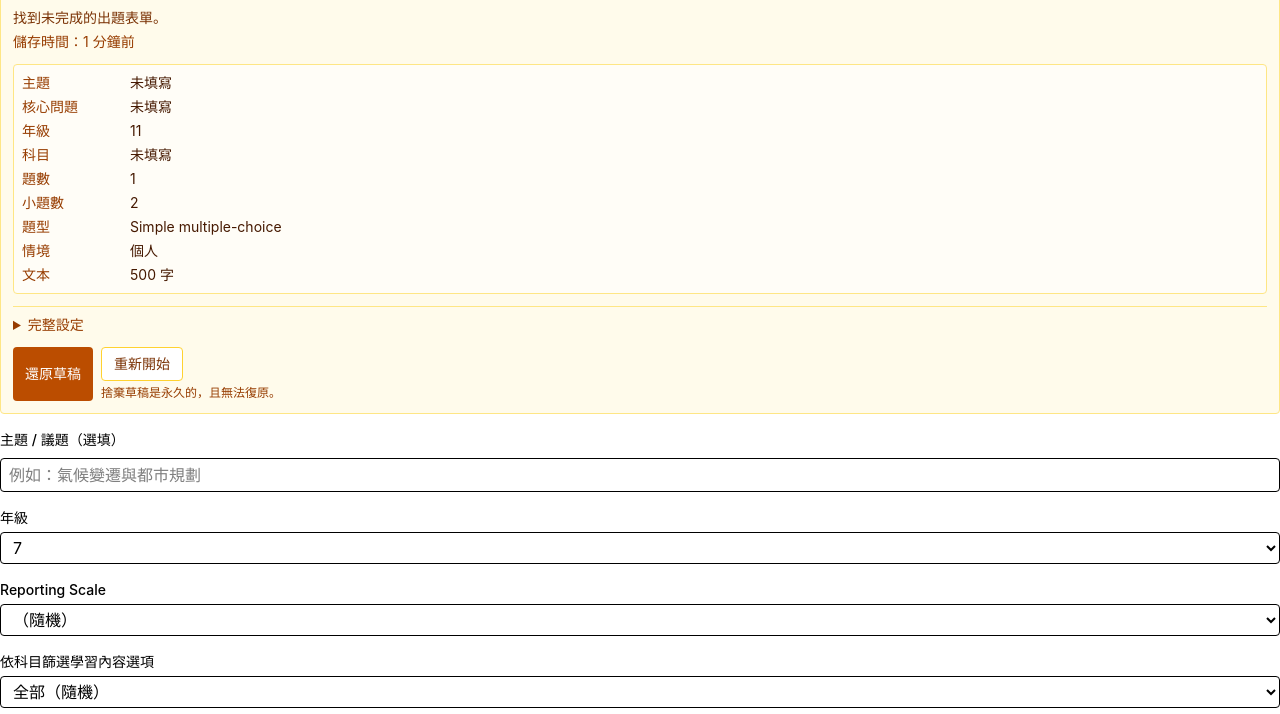
it: ParamForm draft restoration across learning stages › keeps restored grade 11 codes when the previous pool still has pending reconciliation
Check: the text "找到未完成的出題表單。" is shown, box x1=13 y1=9 x2=167 y2=26
Click the button "還原草稿". click: (53, 374)
box: x1=13 y1=347 x2=93 y2=401
(page scrolled)
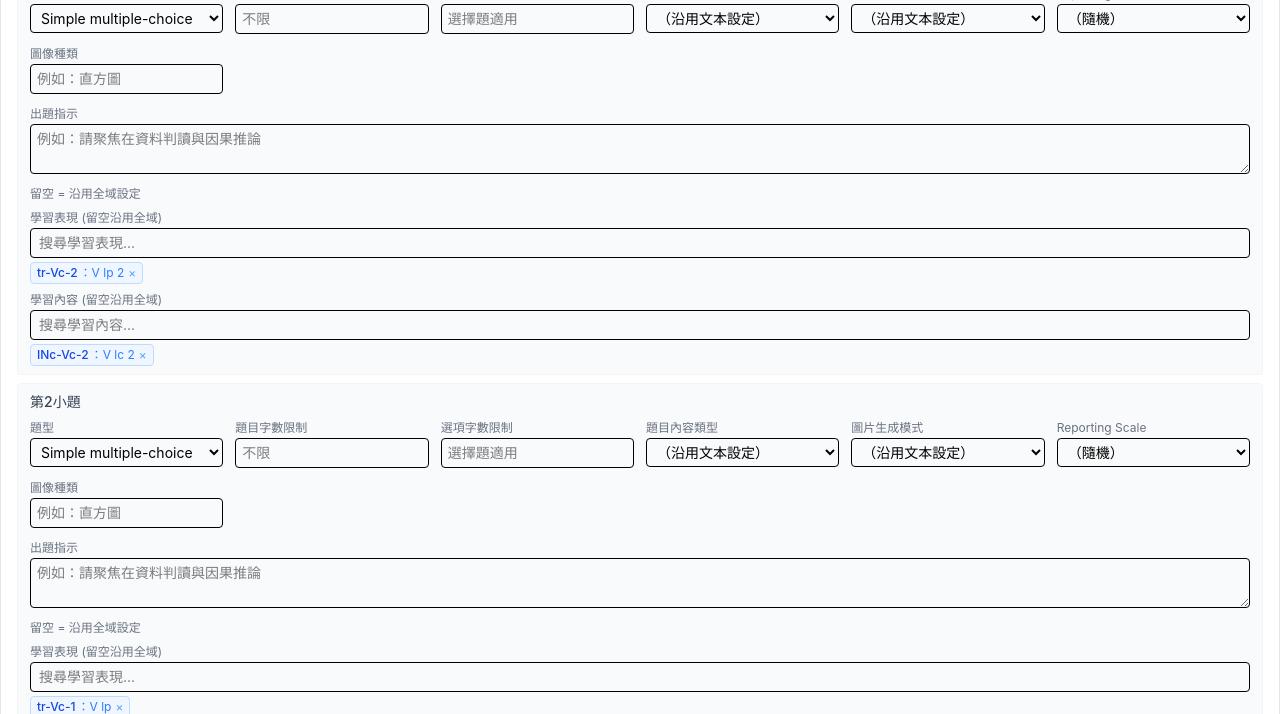
Check: the text "tr-Vc-2" is shown, box x1=37 y1=265 x2=78 y2=281
Check: the text "INc-Vc-2" is shown, box x1=37 y1=347 x2=89 y2=363
